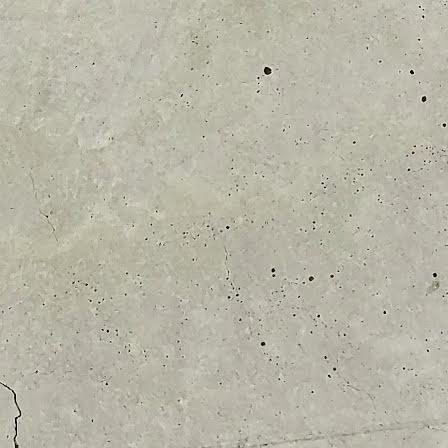crack: (17, 166, 66, 250), (0, 377, 31, 448)
